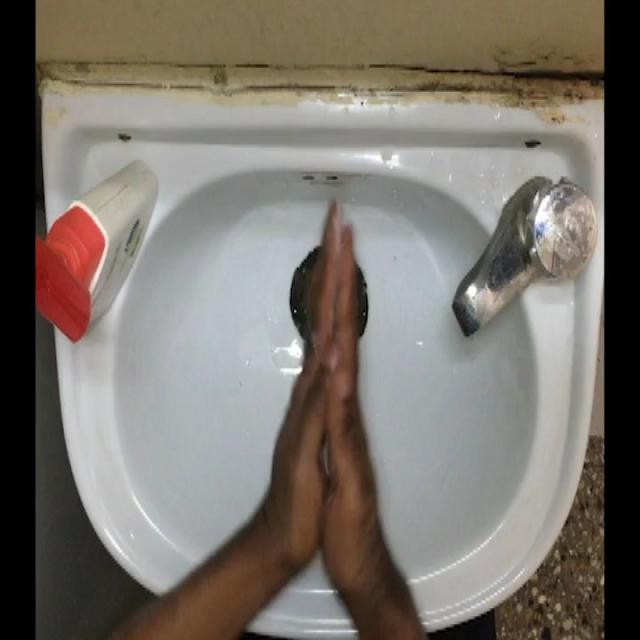step_1: (254, 186, 397, 566)
